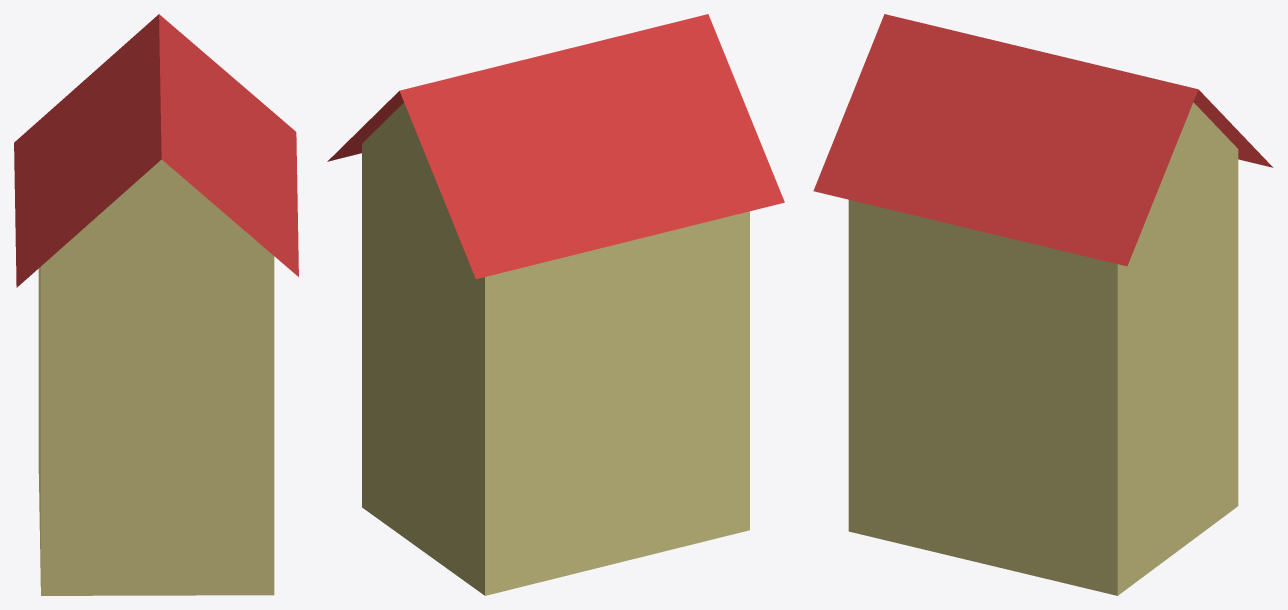
3 views of the same model, side by side, from view 1: azimuth 30°, elevation 25°; view 2: azimuth 150°, elevation 25°; view 3: azimuth 270°, elevation 25° (orthographic). The views are drawn at different scales.
Size of the model in its own units: 8.44 by 8.91 by 10.01.
